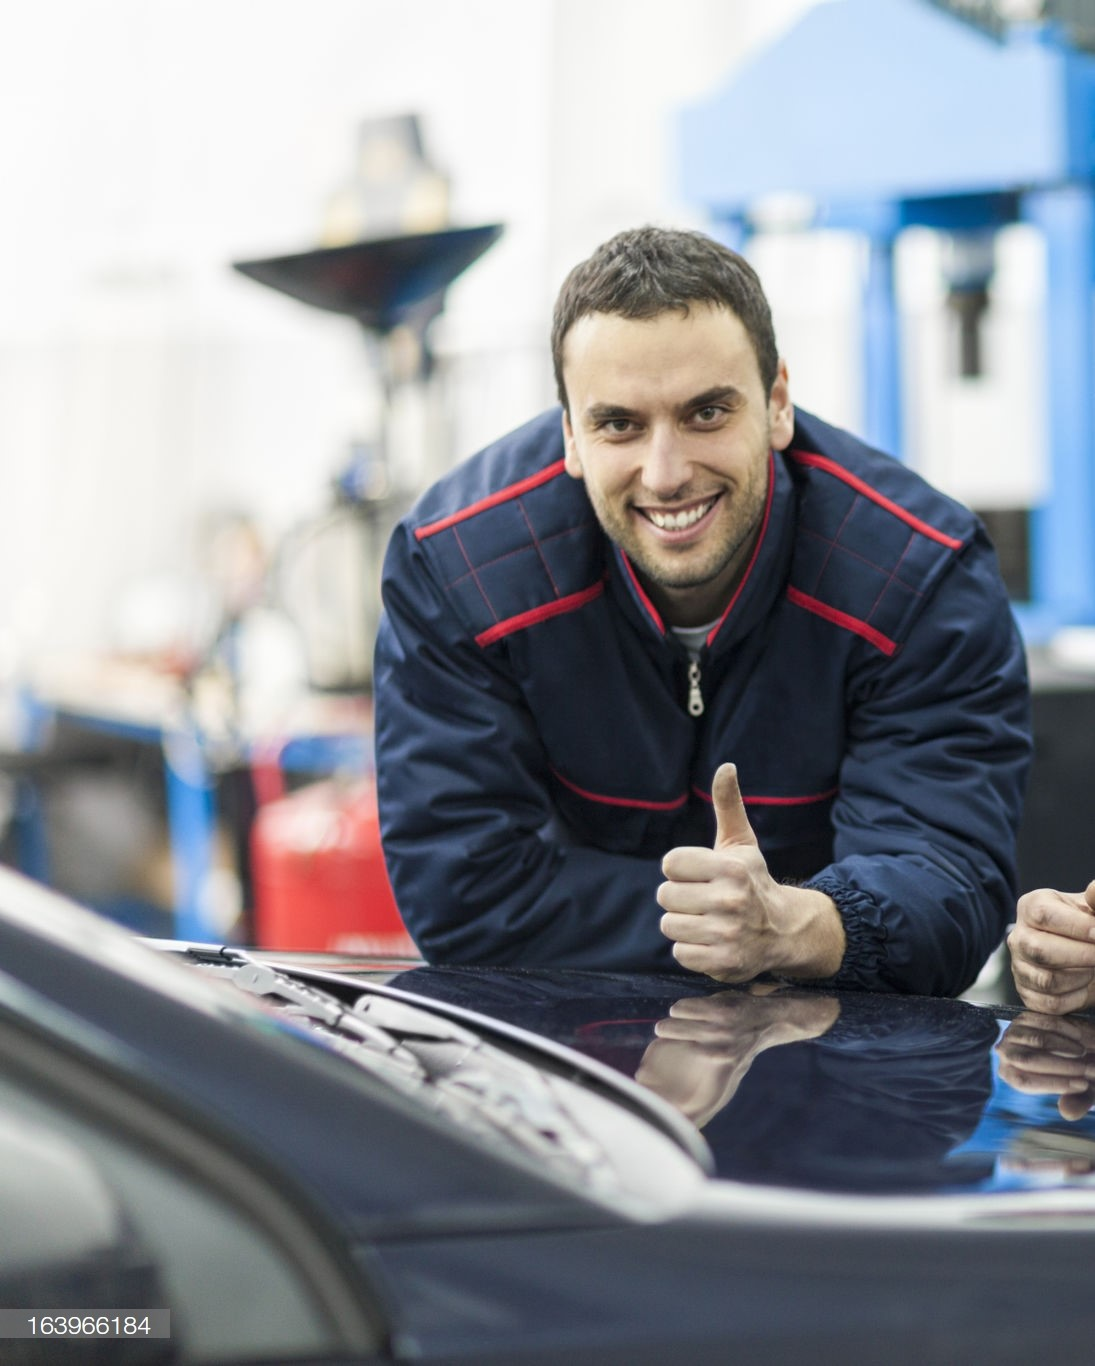thumbsup: (655, 761, 760, 974)
